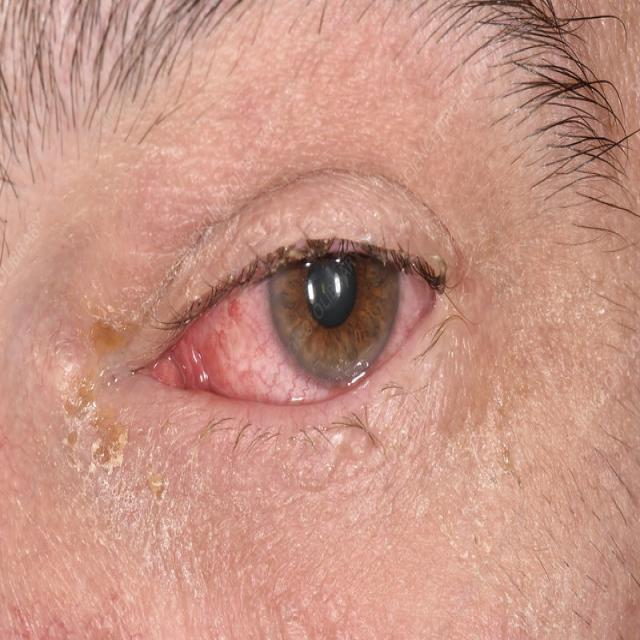Conjunctivitis: (139, 265, 443, 403)
